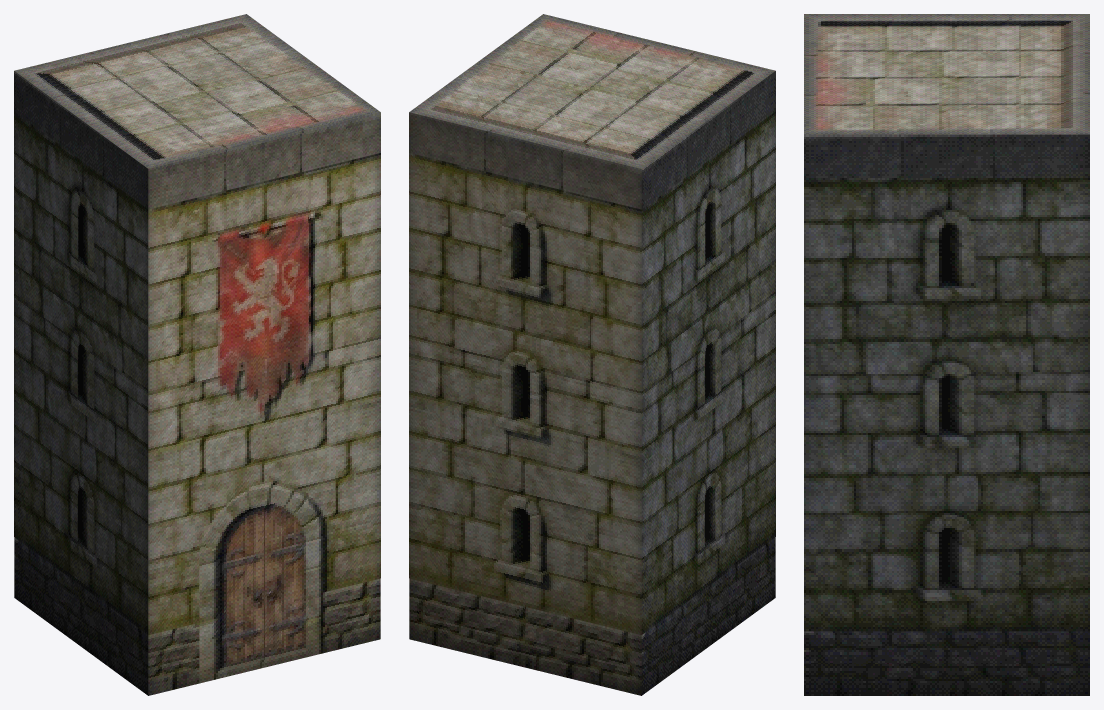
Rendered from tower.glb.
3 renders of one model, left to right at view 1: azimuth 30°, elevation 25°; view 2: azimuth 150°, elevation 25°; view 3: azimuth 270°, elevation 25°, orthographic. The views are drawn at different scales.
Parts seen in each view (by area): view 1: Medieval Castle Watchtower; view 2: Medieval Castle Watchtower; view 3: Medieval Castle Watchtower.
Part boxes in pixels (x1,y1,x2,y2): Medieval Castle Watchtower: (14,14,380,695); Medieval Castle Watchtower: (409,14,775,695); Medieval Castle Watchtower: (804,14,1089,695).
Size of the model in its own units: 6 by 13 by 6.
Materials: 1 (1 with a texture image).
